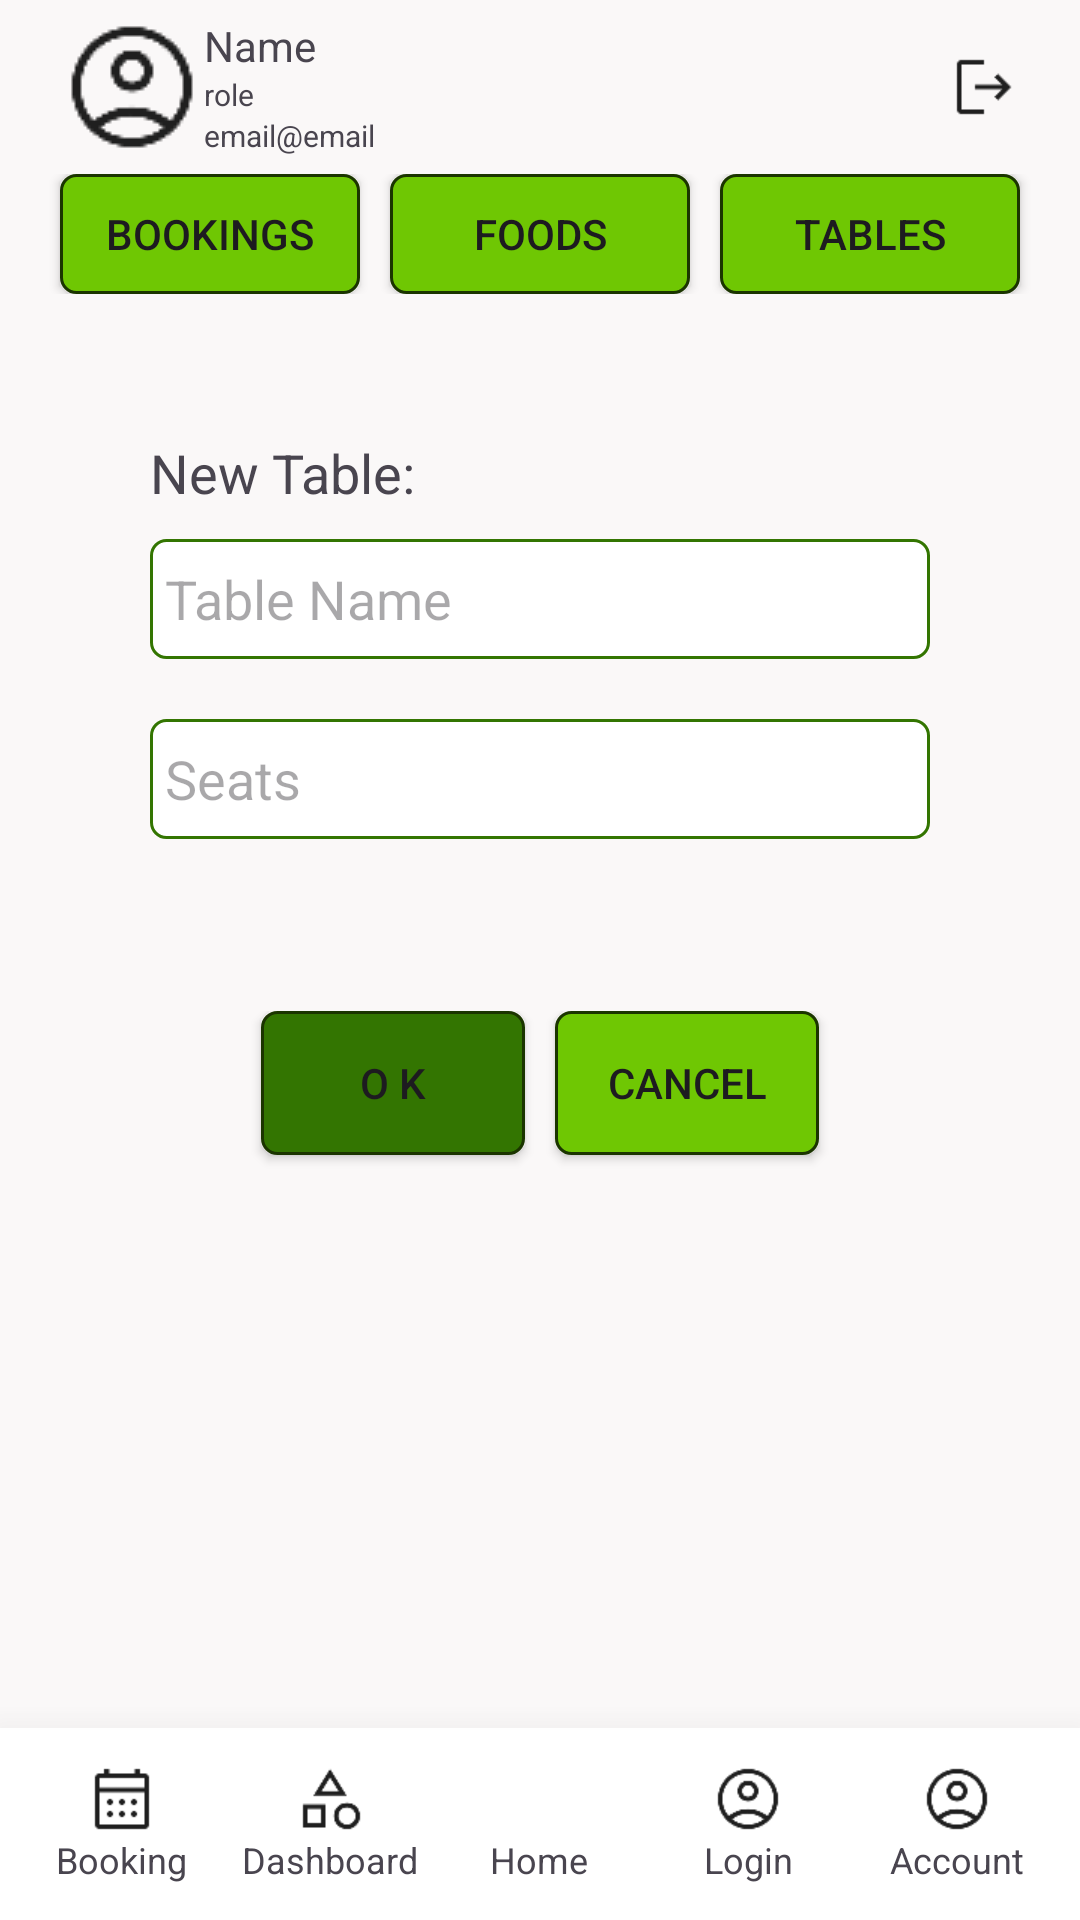

Screen size 1080px x 1920px. Icon name, then its box in pixels as (x1, y1, x2, y2):
calendar: (94, 1768, 150, 1830)
category: (302, 1769, 361, 1830)
